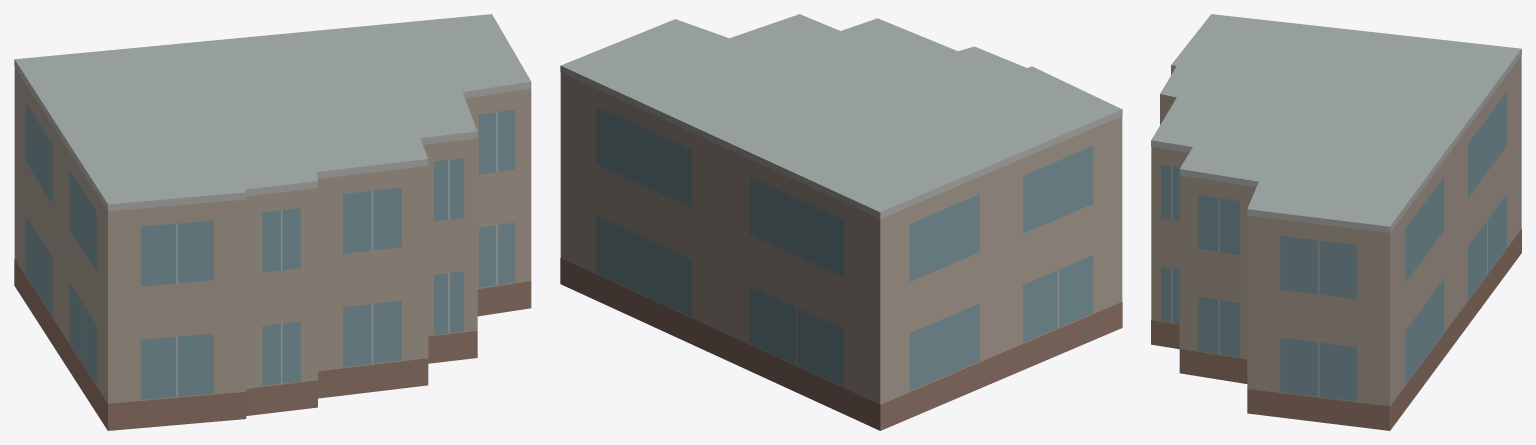
Rendered from survey-upis-32764520.glb.
The picture shows the model from 3 angles, left to right: view 1: azimuth 30°, elevation 25°; view 2: azimuth 150°, elevation 25°; view 3: azimuth 270°, elevation 25°; orthographic projection. The views are drawn at different scales.
Parts seen in each view (by area): view 1: survey-upis-32764520.tmp; view 2: survey-upis-32764520.tmp; view 3: survey-upis-32764520.tmp.
Part boxes in pixels (x1,y1,x2,y2): survey-upis-32764520.tmp: (14, 14, 531, 430); survey-upis-32764520.tmp: (560, 14, 1122, 430); survey-upis-32764520.tmp: (1151, 14, 1521, 430).
Bounding box in the file's own units: 17.65 × 7.9 × 13.
